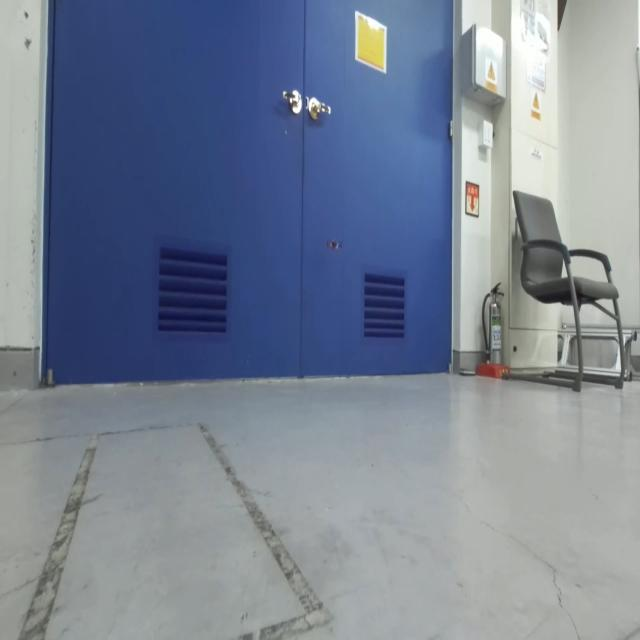crazyflie: (318, 228, 348, 263)
